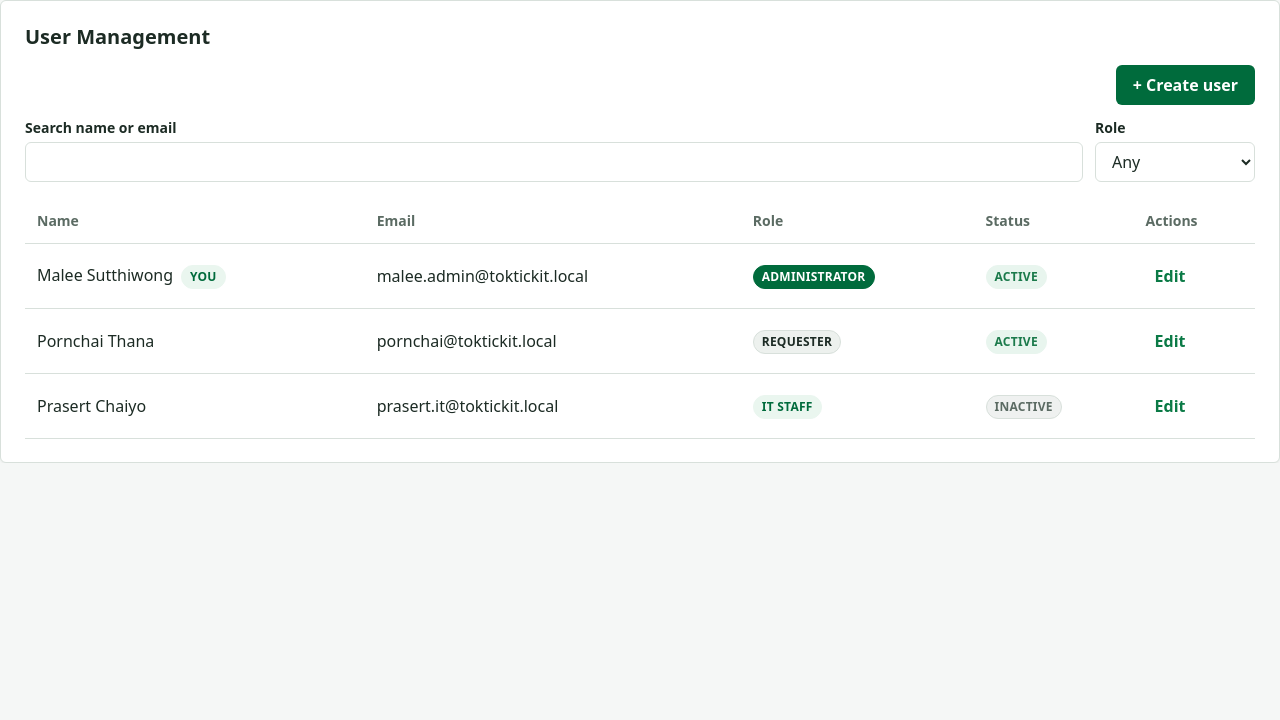
Test: UI-21 the create panel (AC-30) › creates the user, closes the panel, reports success, and reloads the list
Expected: the table is shown, [25, 198, 1255, 438]
Click the button "+ Create user". click: (1185, 85)
box: [1116, 65, 1255, 105]
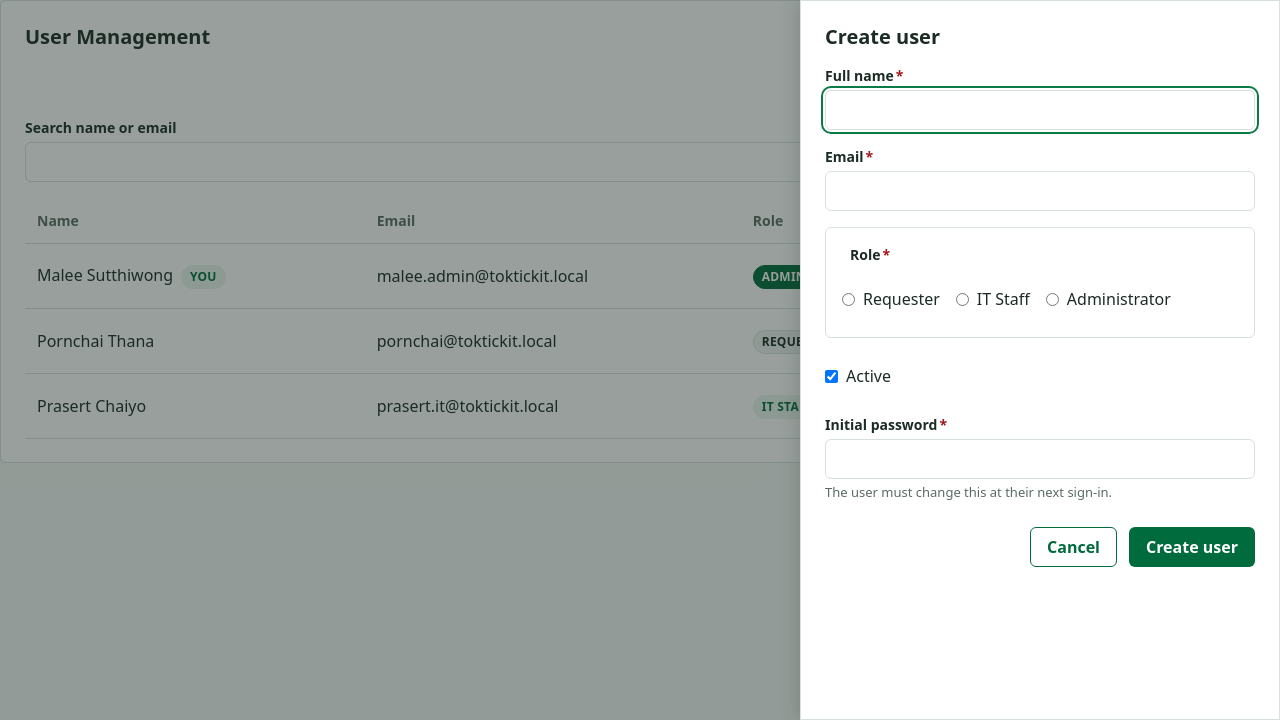
Type "New Person" into the field labelled "Full name*". click: (1040, 110)
box: [825, 90, 1255, 130]
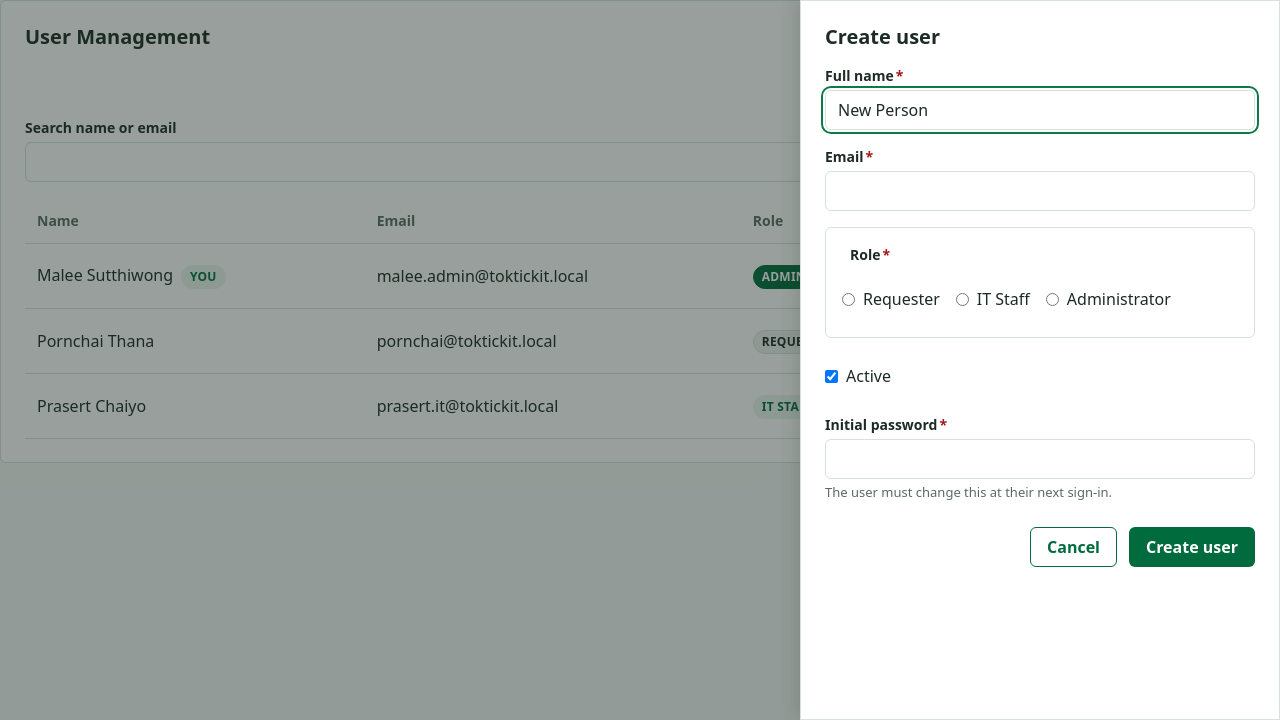
Type "new.person@toktickit.local" into the field labelled "Email*". click: (1040, 191)
box: [825, 171, 1255, 211]
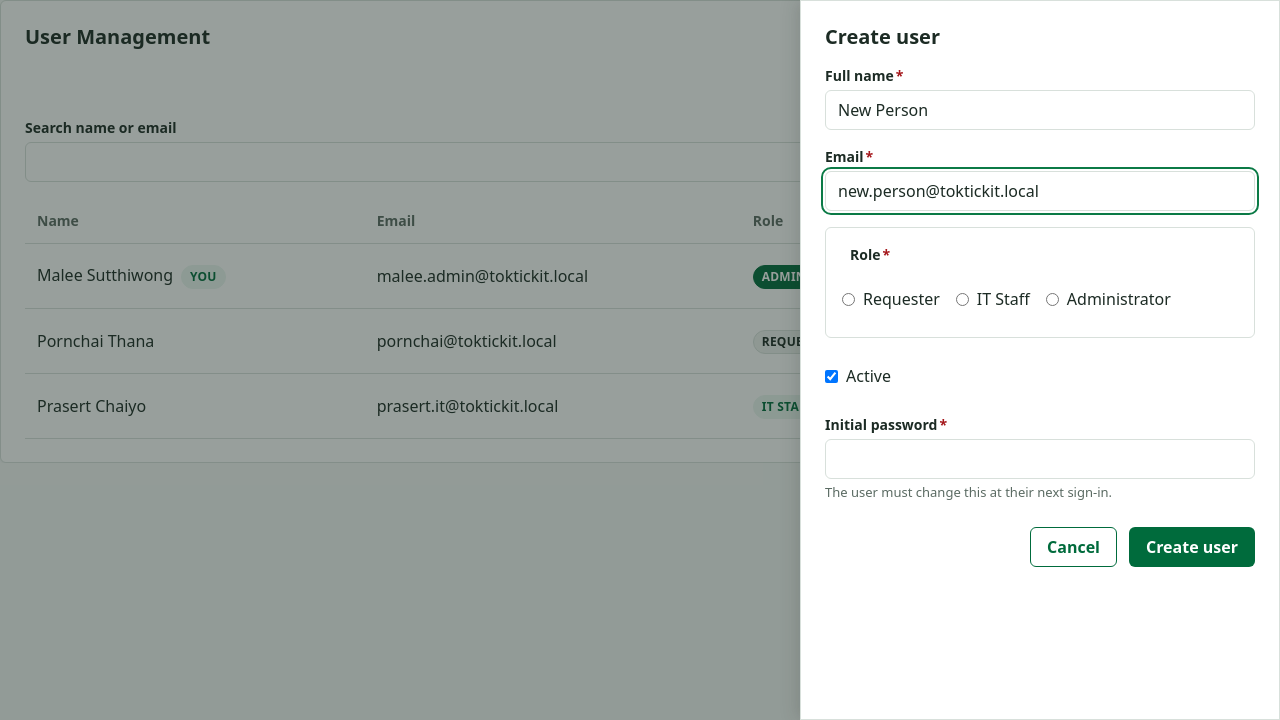
Click the radio button labelled "IT Staff". click: (962, 299)
box: [956, 292, 969, 306]
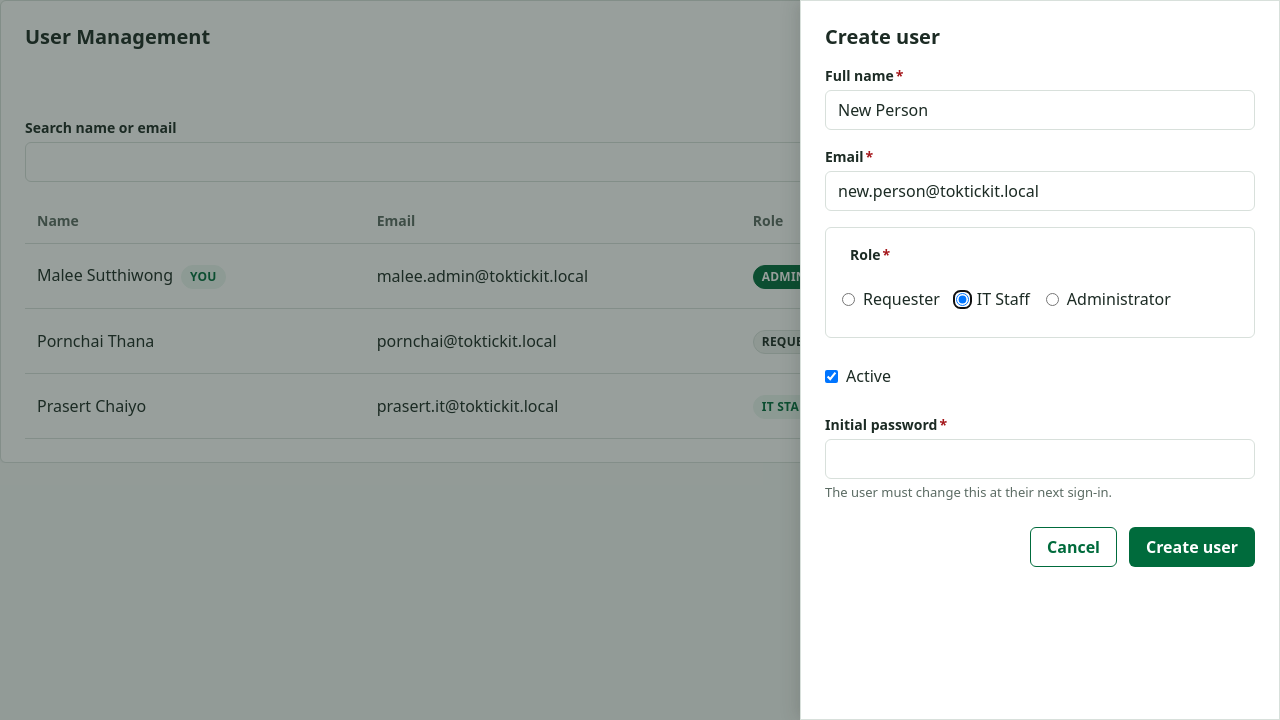
Type "Welcome#2026" into the password field labelled "Initial password*". click: (1040, 459)
box: [825, 439, 1255, 479]
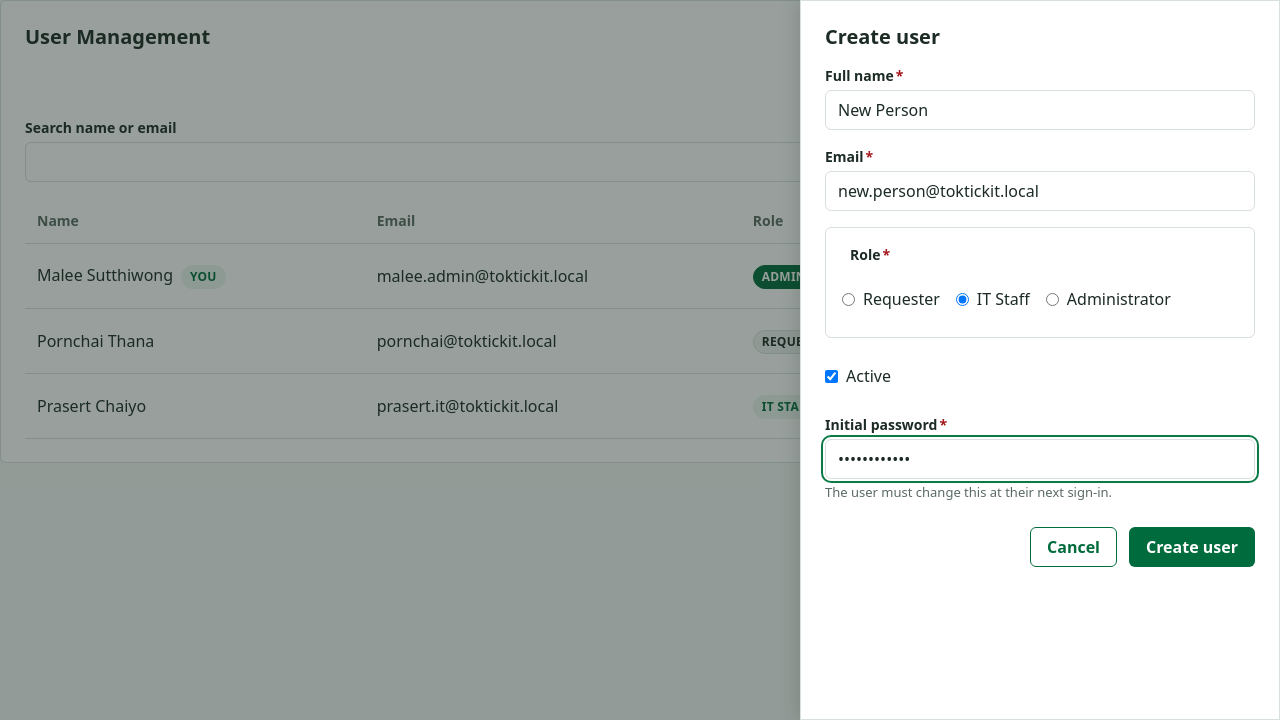
Click the button "Create user". click: (1192, 546)
box: [1129, 526, 1255, 566]
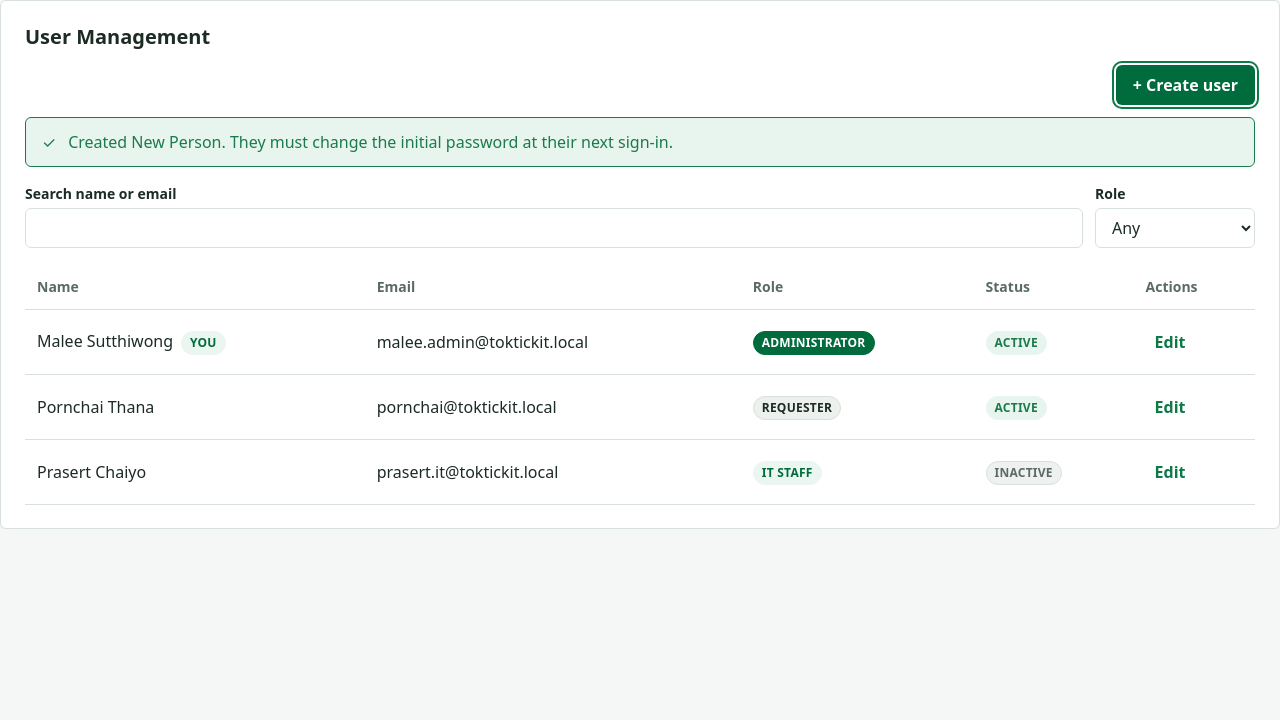
Expected: the text "Created New Person. They must change the initial password" is shown, [68, 131, 673, 153]
Expected: the dialog is gone
